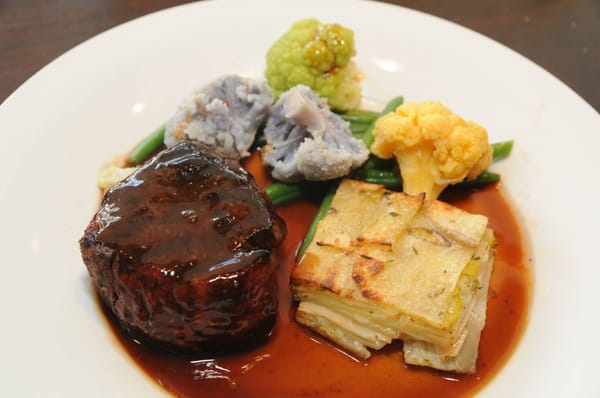soup: (288, 176, 497, 371)
